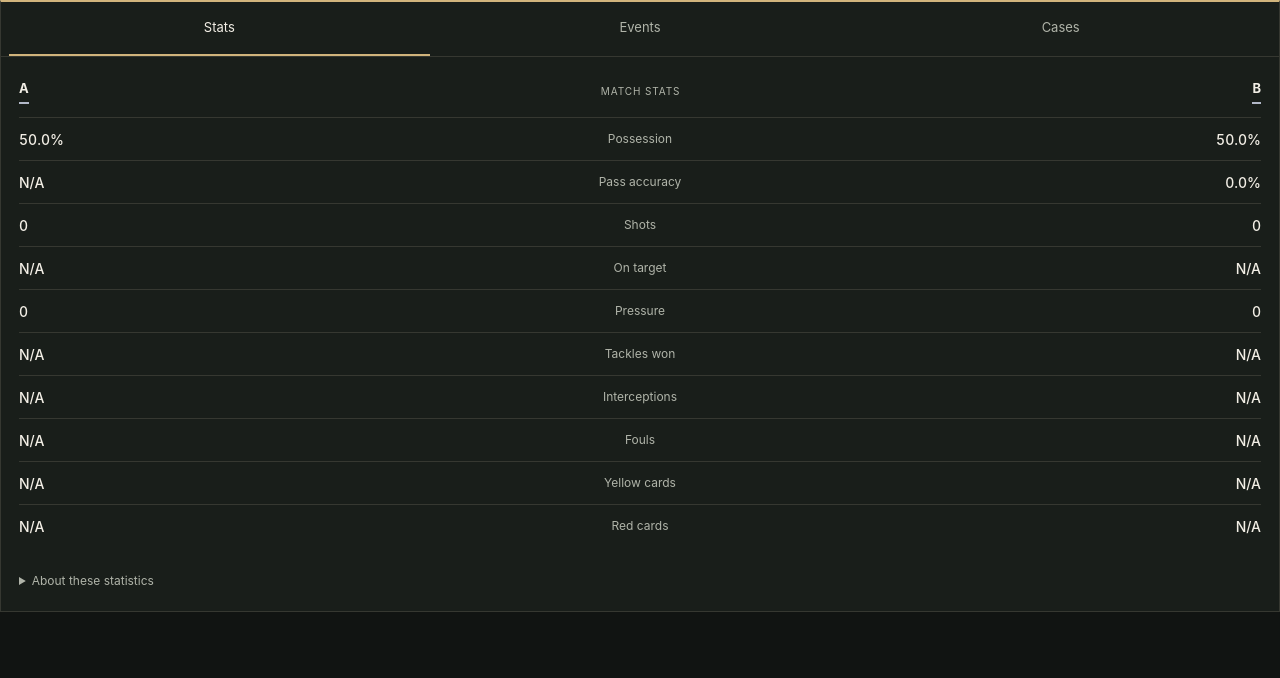
Test: timeline eligibility and details › paginates detailed history instead of rendering an unbounded event feed
Click the tab "Events": (640, 29) [430,2,850,56]
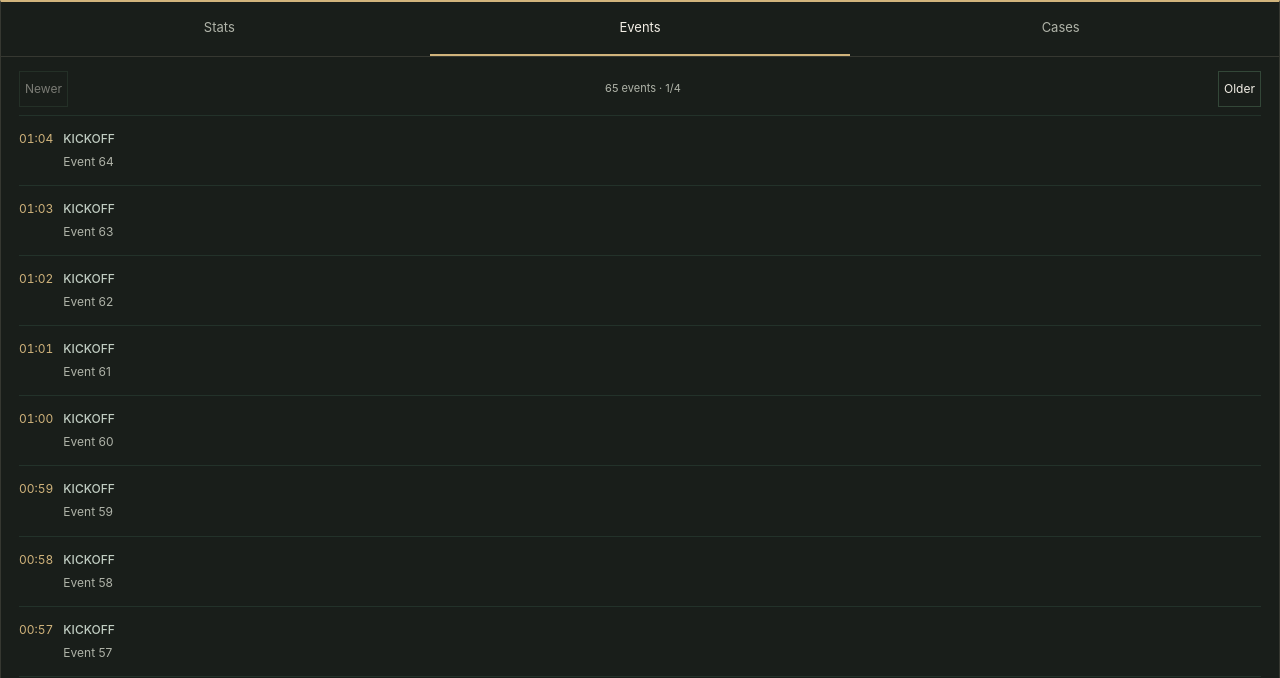
Result: the text "Event 64" is shown at [63,152,115,171]
Click the button "Older": (1240, 88) [1218,70,1261,106]
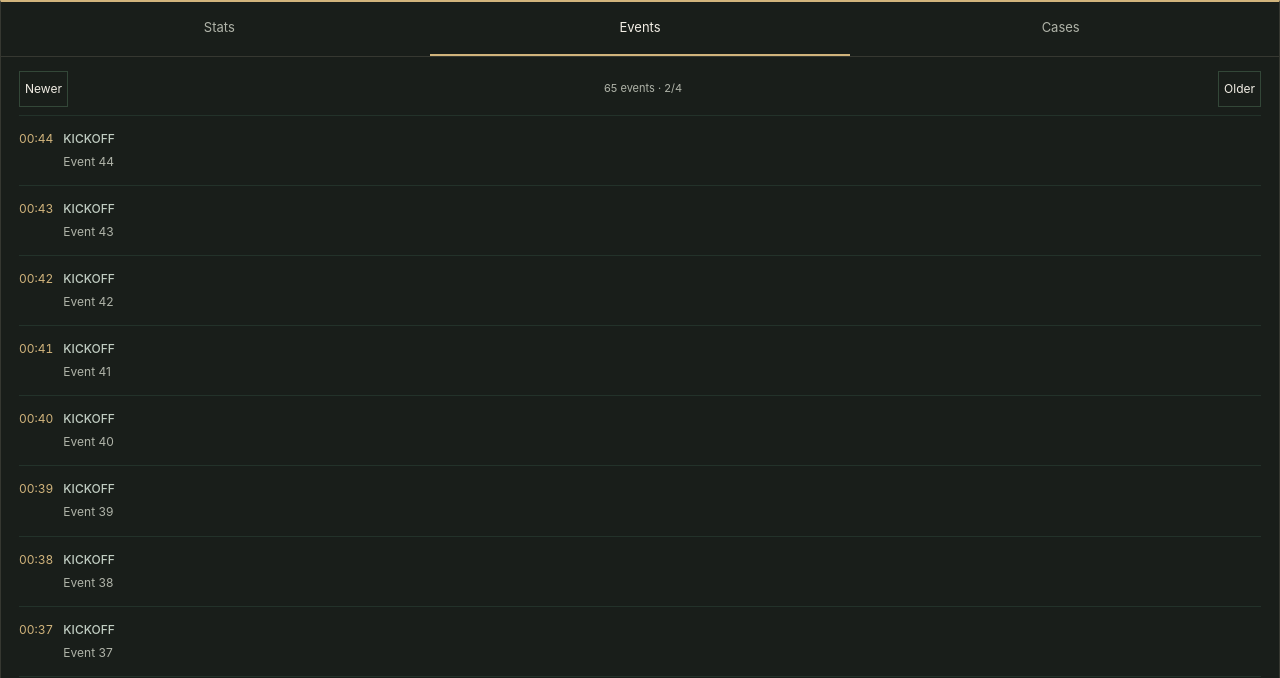
Result: the text "Event 44" is shown at [63,152,115,171]
Result: the button "Event 64" is gone
